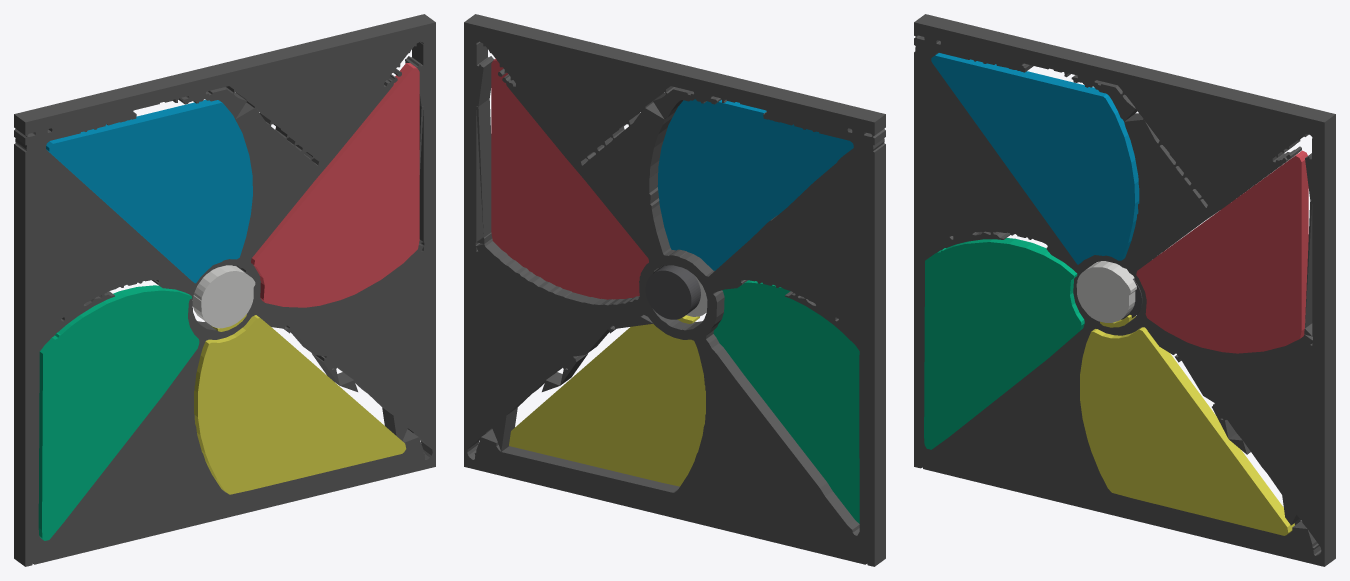
The model's file is aspas_feria_3d.glb.
3 renders of one model, left to right at view 1: azimuth 30°, elevation 25°; view 2: azimuth 150°, elevation 25°; view 3: azimuth 330°, elevation 25°, orthographic.
Parts seen in each view (by area): view 1: marco_negro_extruido, aspa_verde, aspa_rojo, aspa_amarillo, aspa_azul, centro_blanco_original; view 2: marco_negro_extruido, aspa_amarillo, aspa_azul, aspa_rojo, aspa_verde, aro_eje_negro; view 3: marco_negro_extruido, aspa_amarillo, aspa_azul, aspa_verde, aspa_rojo, centro_blanco_original.
Part boxes in pixels (box(x1,y1,x2,y2)): marco_negro_extruido: box(14, 14, 435, 566); aspa_verde: box(38, 285, 199, 540); aspa_rojo: box(251, 63, 419, 307); aspa_amarillo: box(194, 314, 406, 494); aspa_azul: box(46, 99, 252, 283); centro_blanco_original: box(192, 265, 255, 328); marco_negro_extruido: box(464, 14, 885, 566); aspa_amarillo: box(509, 315, 705, 486); aspa_azul: box(657, 99, 853, 270); aspa_rojo: box(491, 58, 648, 299); aspa_verde: box(713, 280, 859, 523); aro_eje_negro: box(645, 265, 700, 319); marco_negro_extruido: box(914, 14, 1335, 566); aspa_amarillo: box(1080, 315, 1294, 535); aspa_azul: box(931, 53, 1139, 264); aspa_verde: box(924, 238, 1084, 449); aspa_rojo: box(1136, 150, 1308, 353); centro_blanco_original: box(1076, 261, 1136, 322).
Size of the model in its own units: 2.51 by 2.6 by 0.195.
